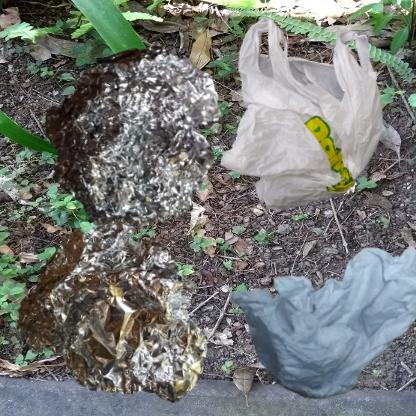aluminio: (10, 10, 282, 293), (10, 213, 213, 412)
bolsa: (213, 10, 407, 236)
papel: (213, 213, 416, 416)
